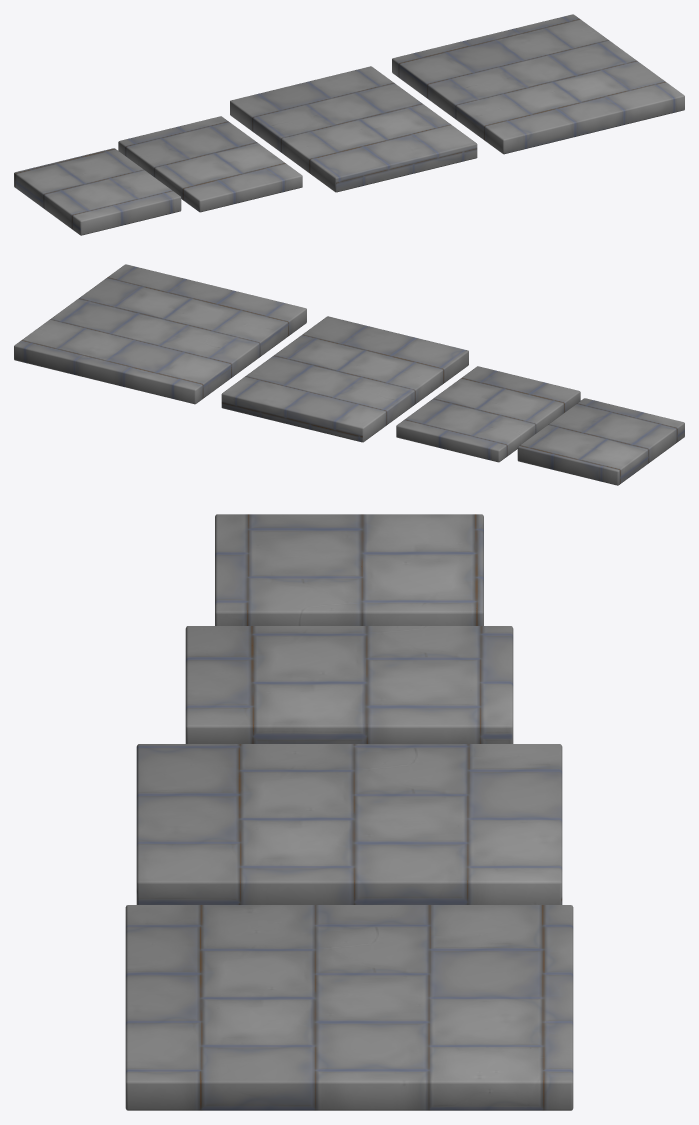
Rendered from HouseBase.fbx.
3 renders of one model, top to bottom at view 1: azimuth 30°, elevation 25°; view 2: azimuth 150°, elevation 25°; view 3: azimuth 270°, elevation 25°, orthographic. The views are drawn at different scales.
Parts seen in each view (by area): view 1: HouseBase01, HouseBase02, HouseBase03, HouseBase04; view 2: HouseBase01, HouseBase02, HouseBase03, HouseBase04; view 3: HouseBase01, HouseBase02, HouseBase03, HouseBase04.
Boxes of the visible parts, x1=… form: HouseBase01: x1=392, y1=14, x2=684, y2=154; HouseBase02: x1=230, y1=66, x2=477, y2=192; HouseBase03: x1=118, y1=116, x2=302, y2=212; HouseBase04: x1=14, y1=148, x2=181, y2=235; HouseBase01: x1=14, y1=264, x2=306, y2=404; HouseBase02: x1=221, y1=316, x2=468, y2=442; HouseBase03: x1=396, y1=366, x2=580, y2=462; HouseBase04: x1=517, y1=398, x2=684, y2=485; HouseBase01: x1=125, y1=905, x2=573, y2=1110; HouseBase02: x1=136, y1=744, x2=562, y2=904; HouseBase03: x1=185, y1=626, x2=513, y2=743; HouseBase04: x1=215, y1=514, x2=483, y2=625.
Size of the model in its own units: 12339 by 306 by 4106.
